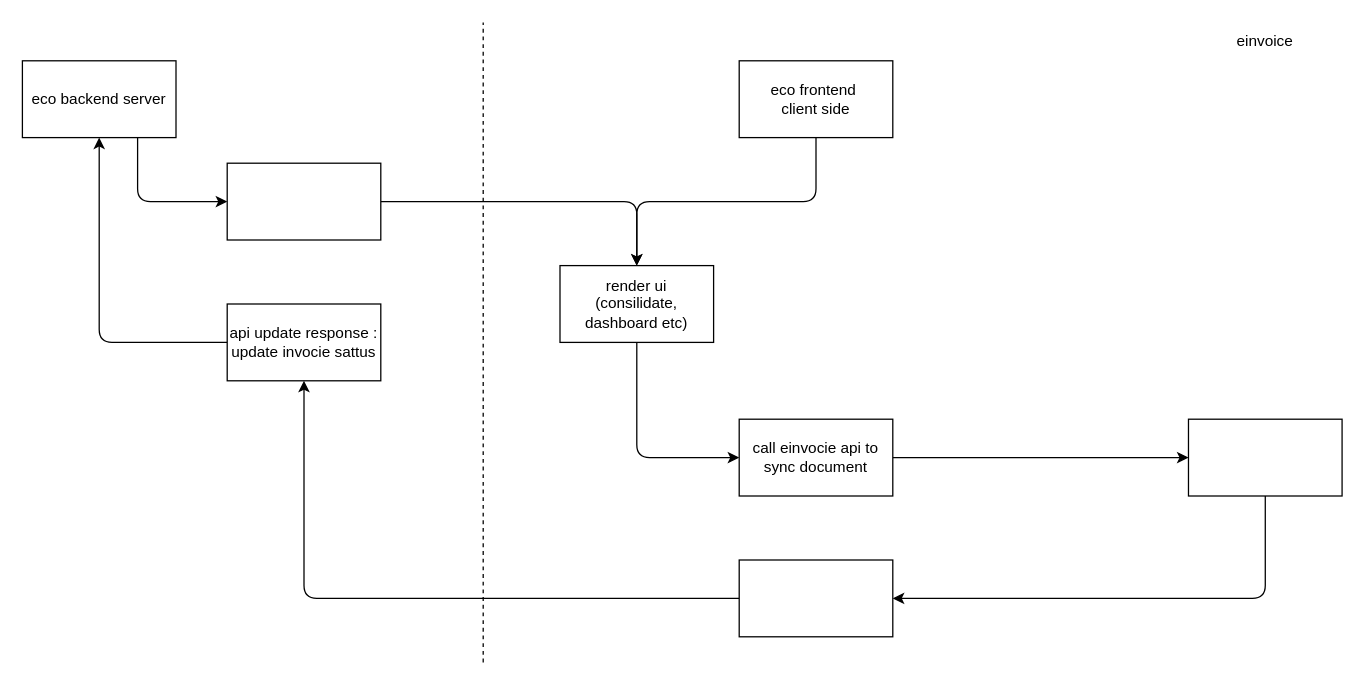
Image size: 1364x686. Some labels were removed from this diagram. The box of each missing label's shape, as (x1, y1, x2, y2) in pixels:
api provide data: sso token, implementatin date: (226, 162, 381, 240)
create einvocie: (1187, 418, 1342, 496)
einvoice api return status: (738, 559, 893, 637)
